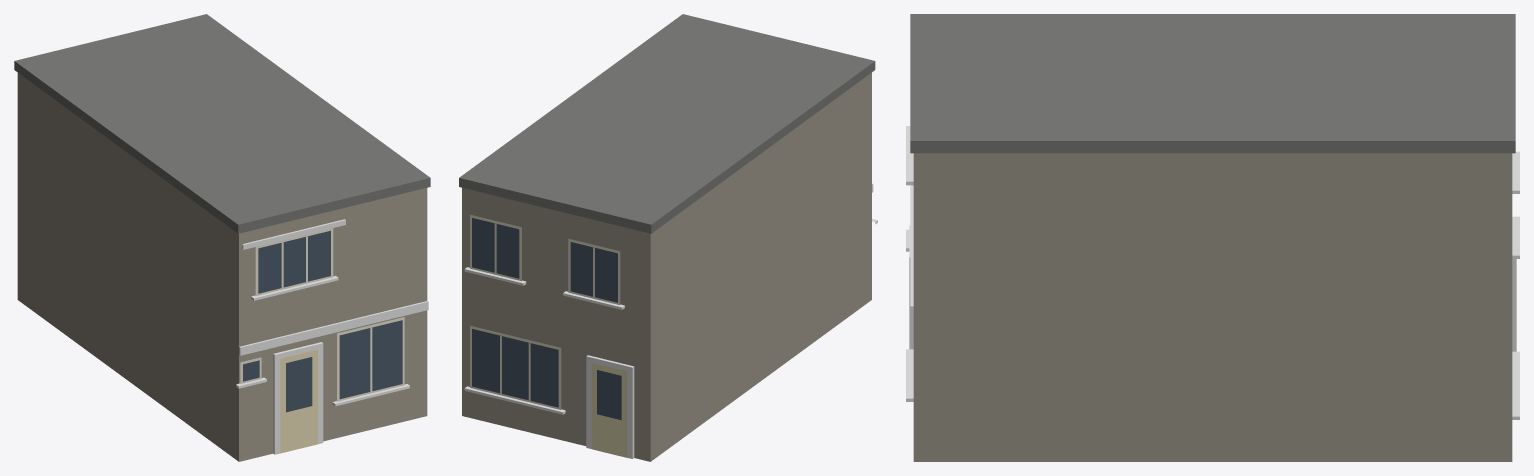
The model's file is zo-rb-flat-band__grey__2__flat__long__solid__mirror.glb.
3 views of the same model, side by side, from view 1: azimuth 30°, elevation 25°; view 2: azimuth 150°, elevation 25°; view 3: azimuth 270°, elevation 25° (orthographic). The views are drawn at different scales.
Parts seen in each view (by area): view 1: zo-rb-flat-band__grey__2__flat__long__solid__mirror; view 2: zo-rb-flat-band__grey__2__flat__long__solid__mirror; view 3: zo-rb-flat-band__grey__2__flat__long__solid__mirror.
Boxes of the visible parts, bbox=[...] form: zo-rb-flat-band__grey__2__flat__long__solid__mirror: bbox=[14, 14, 430, 461]; zo-rb-flat-band__grey__2__flat__long__solid__mirror: bbox=[459, 14, 877, 461]; zo-rb-flat-band__grey__2__flat__long__solid__mirror: bbox=[906, 14, 1519, 461].
Bounding box in the file's own units: 4.91 × 5.78 × 9.98.
